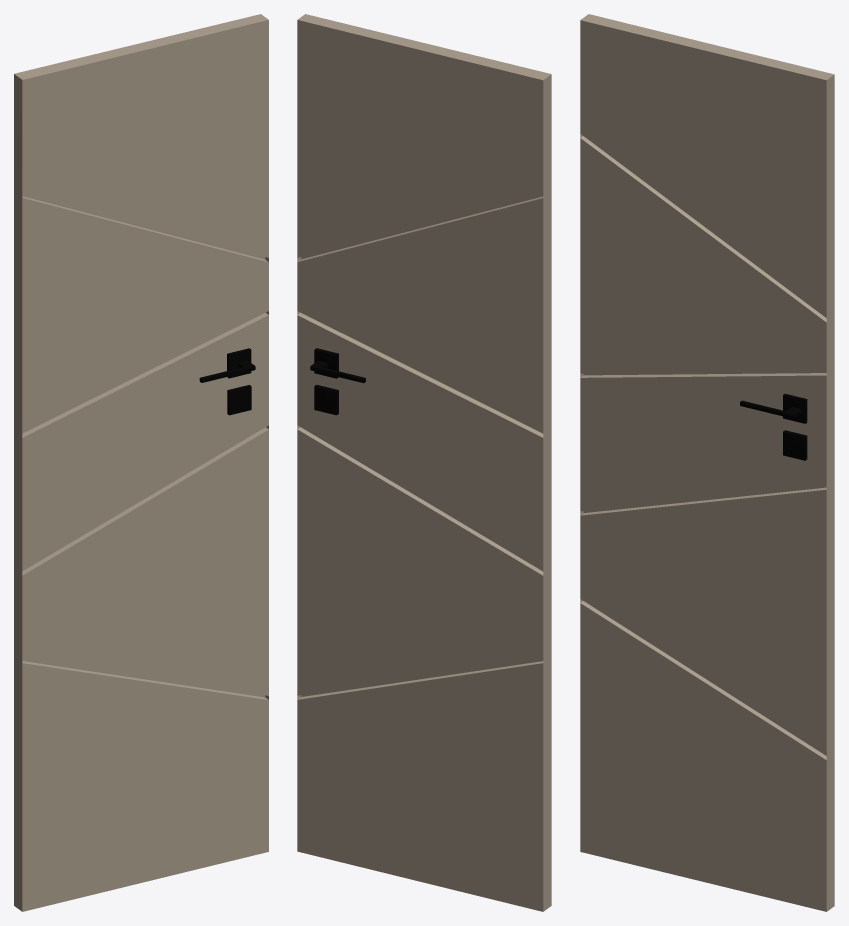
File: RP_3_3b_door.glb
The picture shows the model from 3 angles, left to right: view 1: azimuth 30°, elevation 25°; view 2: azimuth 150°, elevation 25°; view 3: azimuth 330°, elevation 25°; orthographic projection.
Parts seen in each view (by area): view 1: RP_3__3b_door_; view 2: RP_3__3b_door_; view 3: RP_3__3b_door_.
Boxes of the visible parts, box(x1,y1,x2,y2) form: RP_3__3b_door_: box(14, 14, 268, 911); RP_3__3b_door_: box(297, 14, 551, 911); RP_3__3b_door_: box(580, 14, 834, 911).
Size of the model in its own units: 0.5515 by 1.78 by 0.1089.
Materials: 1 (1 with a texture image).
